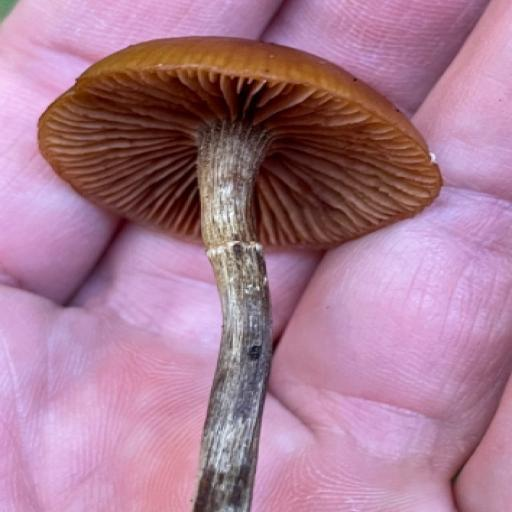mushroom: (28, 27, 461, 382)
